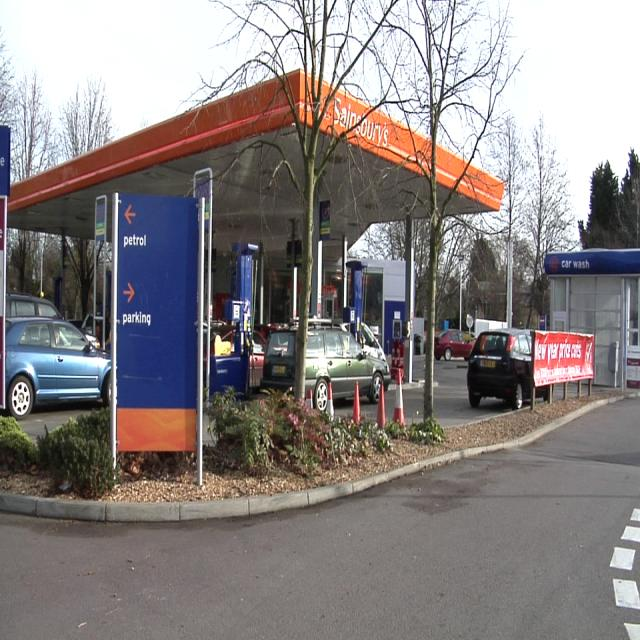Car: (6, 318, 110, 414), (306, 332, 390, 409), (468, 328, 532, 409), (434, 330, 475, 360)
Road: (0, 398, 640, 638)
Tree: (205, 0, 519, 396), (439, 115, 578, 327), (0, 32, 114, 181), (580, 148, 640, 248)
